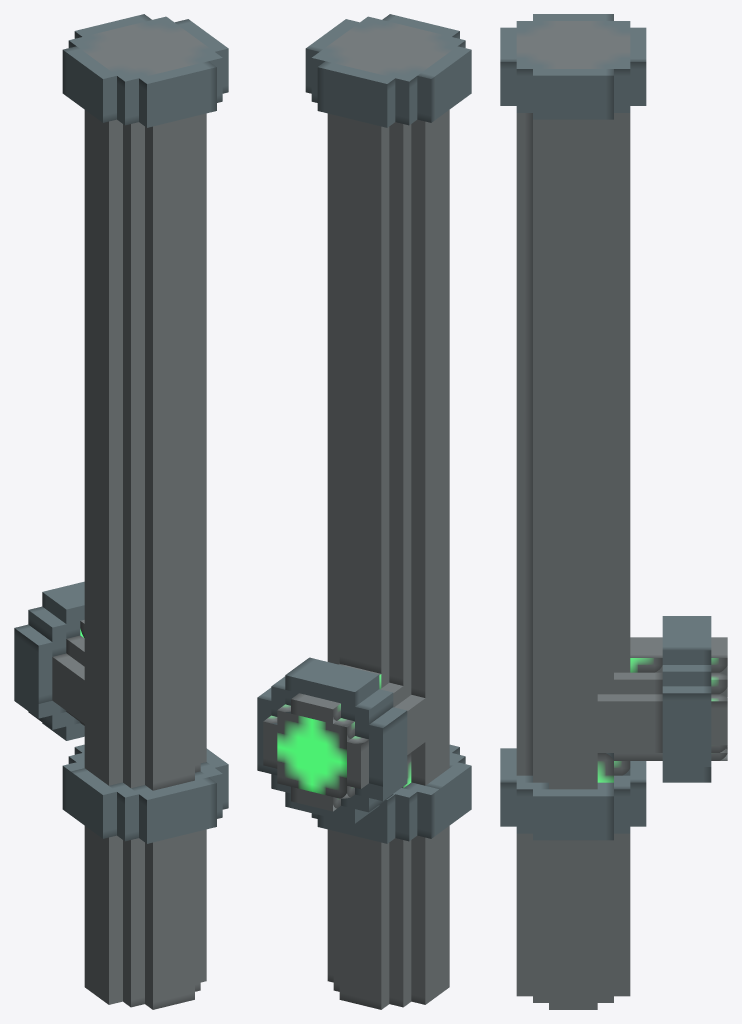
Rendered from RURA_W_GURA_WSKAZIK_CISN.dae.
3 views of the same model, side by side, from view 1: azimuth 30°, elevation 25°; view 2: azimuth 150°, elevation 25°; view 3: azimuth 270°, elevation 25° (orthographic).
Parts seen in each view (by area): view 1: Content; view 2: Content; view 3: Content.
Boxes of the visible parts, x1=… form: Content: x1=14, y1=14, x2=228, y2=1009; Content: x1=257, y1=14, x2=471, y2=1009; Content: x1=500, y1=14, x2=727, y2=1009.
Bounding box in the file's own units: 9 × 64 × 14.
Materials: 1 (1 with a texture image).
